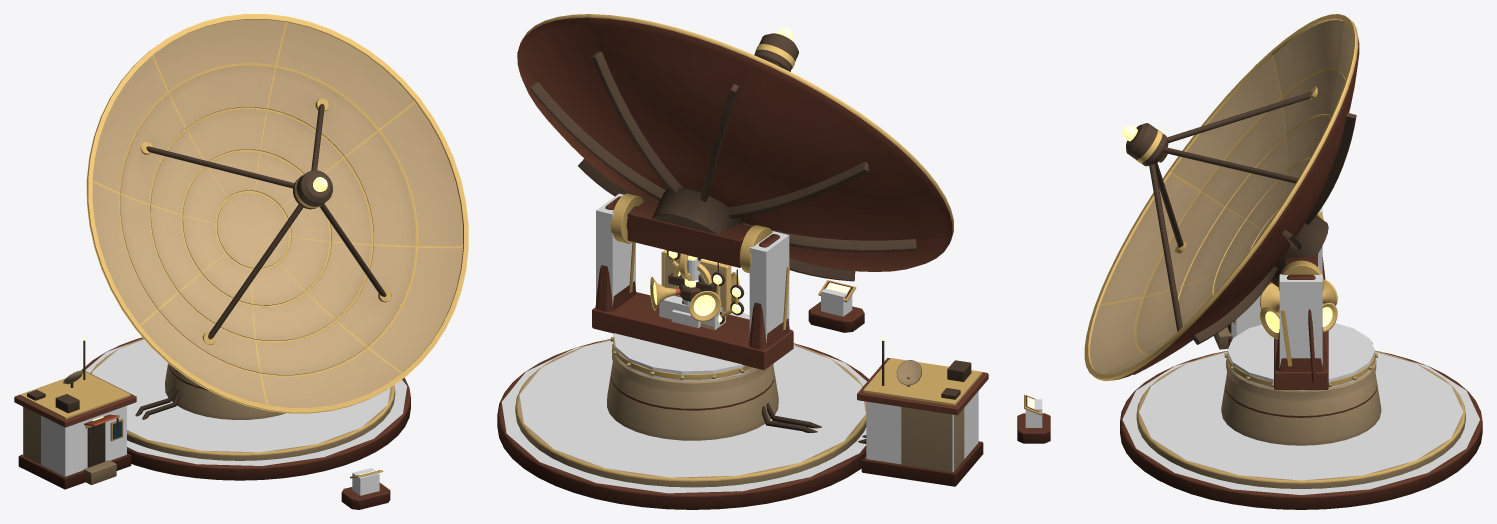
The model's file is landmarks-contact.glb.
3 renders of one model, left to right at view 1: azimuth 30°, elevation 25°; view 2: azimuth 150°, elevation 25°; view 3: azimuth 270°, elevation 25°, orthographic. The views are drawn at different scales.
Visible parts, largest first — view 1: signal_dish, COL_CYL_base_1, COL_BOX_hut, COL_CYL_base_0, COL_BOX_console; view 2: signal_dish, COL_CYL_base_1, COL_CYL_base_0, COL_BOX_yoke_L, COL_CYL_pedestal, COL_BOX_hut, COL_BOX_yoke_R, contact_antenna_3, contact_antenna_0, contact_antenna_1, COL_BOX_console, COL_BOX_monolith; view 3: signal_dish, COL_CYL_base_1, COL_CYL_pedestal, COL_CYL_base_0, COL_BOX_yoke_R, contact_antenna_3, COL_BOX_hut.
Part boxes in pixels (x1,y1,x2,y2): signal_dish: (14, 14, 468, 509); COL_CYL_base_1: (92, 339, 390, 452); COL_BOX_hut: (23, 405, 126, 476); COL_CYL_base_0: (85, 344, 407, 465); COL_BOX_console: (352, 468, 379, 495); signal_dish: (497, 14, 988, 509); COL_CYL_base_1: (519, 341, 865, 477); COL_CYL_base_0: (501, 344, 867, 493); COL_BOX_yoke_L: (749, 231, 789, 342); COL_CYL_pedestal: (613, 313, 753, 381); COL_BOX_hut: (866, 391, 978, 472); COL_BOX_yoke_R: (596, 193, 635, 305); contact_antenna_3: (650, 272, 739, 321); contact_antenna_0: (661, 250, 731, 311); contact_antenna_1: (667, 250, 744, 324); COL_BOX_console: (821, 288, 852, 316); COL_BOX_monolith: (659, 295, 725, 329); signal_dish: (1017, 14, 1482, 509); COL_CYL_base_1: (1139, 352, 1463, 480); COL_CYL_pedestal: (1227, 323, 1375, 390); COL_CYL_base_0: (1122, 361, 1479, 495); COL_BOX_yoke_R: (1279, 274, 1322, 367); contact_antenna_3: (1260, 279, 1337, 338); COL_BOX_hut: (1231, 295, 1261, 337).
Bounding box in the file's own units: 20.98 × 18.22 × 19.5.
